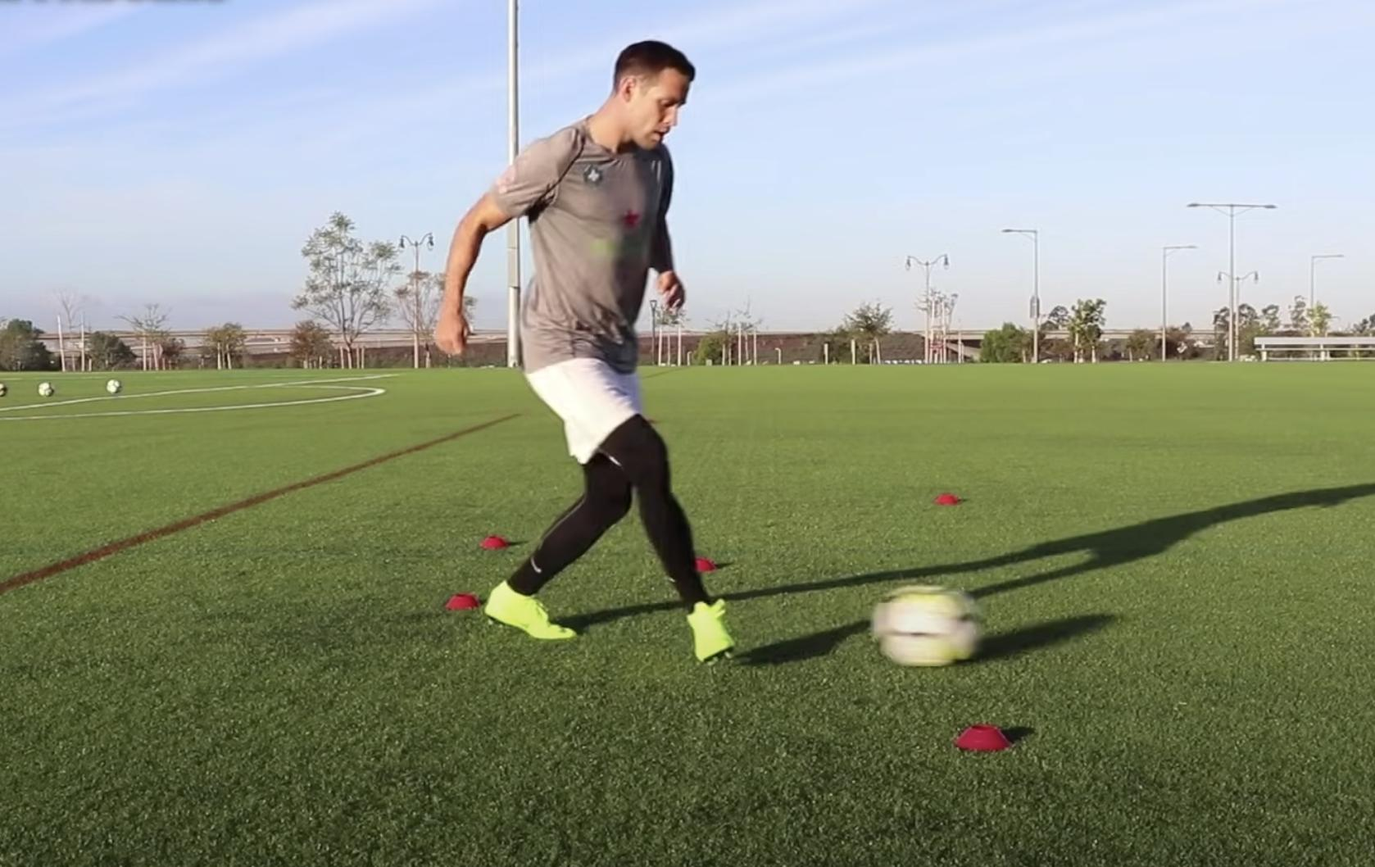ball: (872, 589, 984, 669)
foot: (483, 580, 577, 640), (683, 599, 736, 666)
person: (433, 39, 736, 662)
